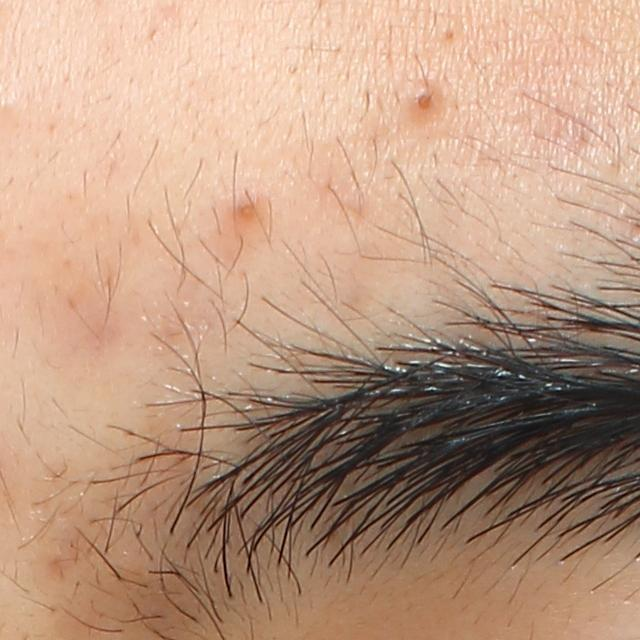comedo: (214, 190, 264, 226), (406, 85, 442, 123), (435, 16, 463, 44)
